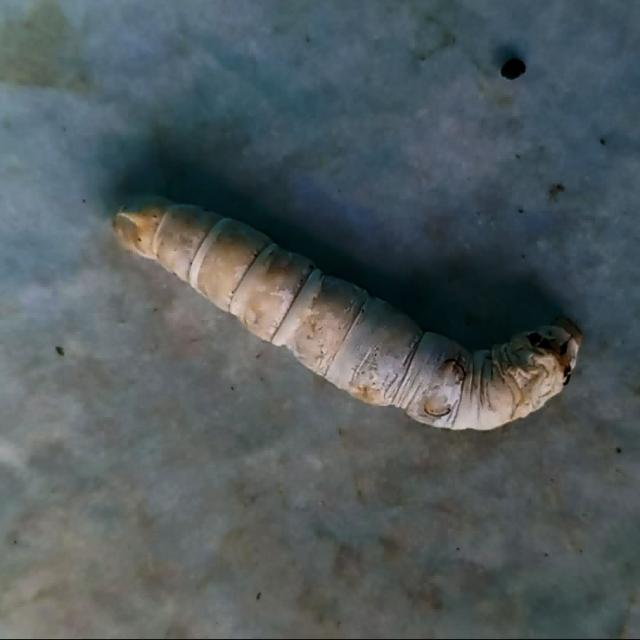Grasserie: (100, 176, 592, 442)
